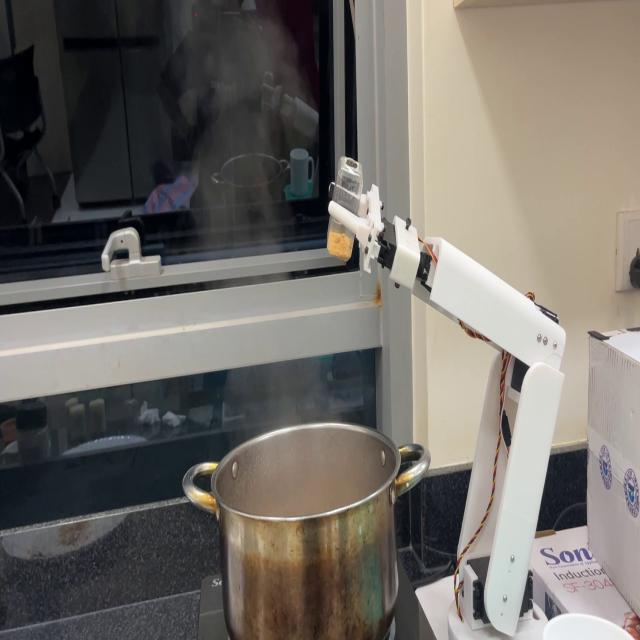cooking_pot: (183, 420, 430, 640)
